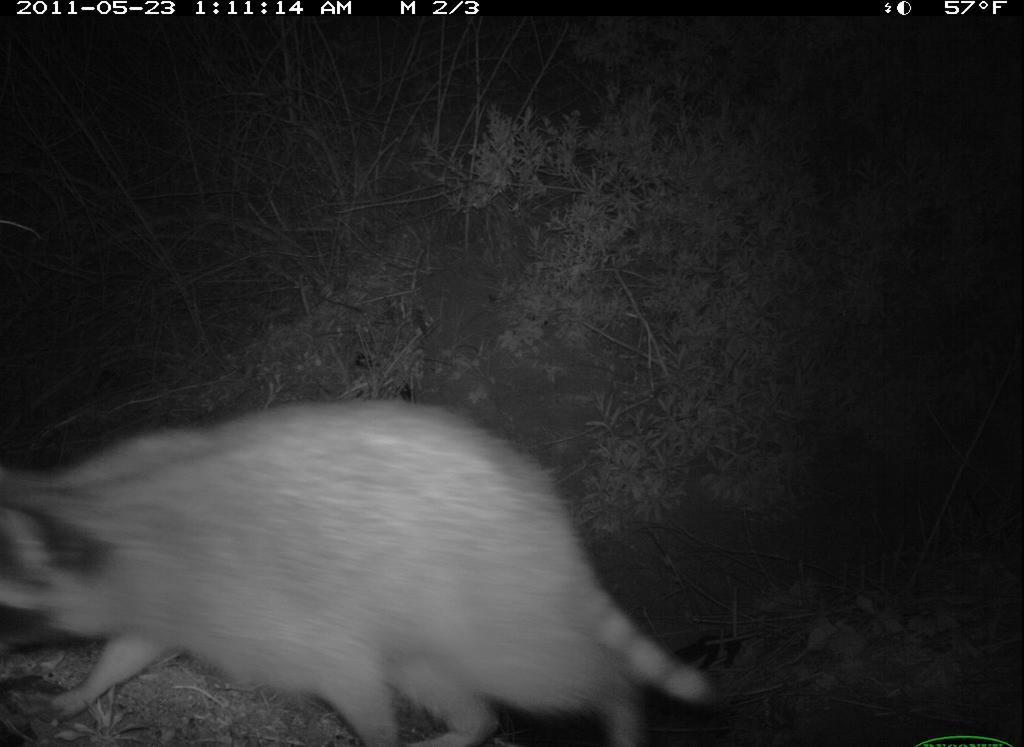raccoon: (6, 392, 726, 744)
